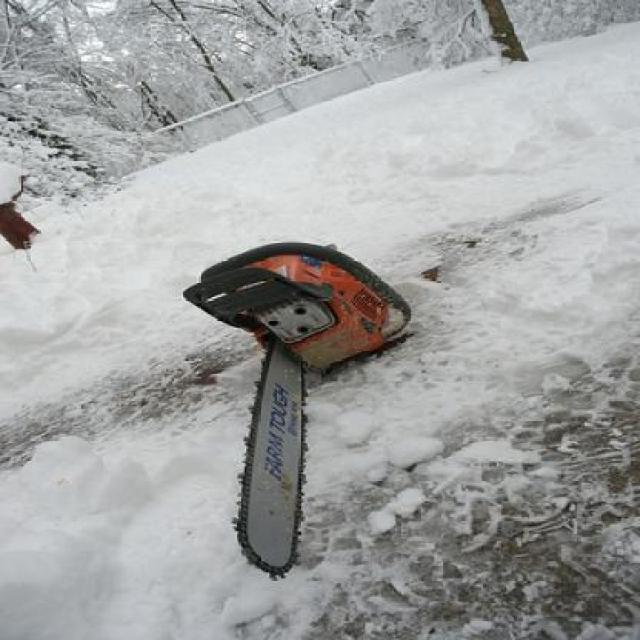Chainsaw: (175, 240, 412, 571)
